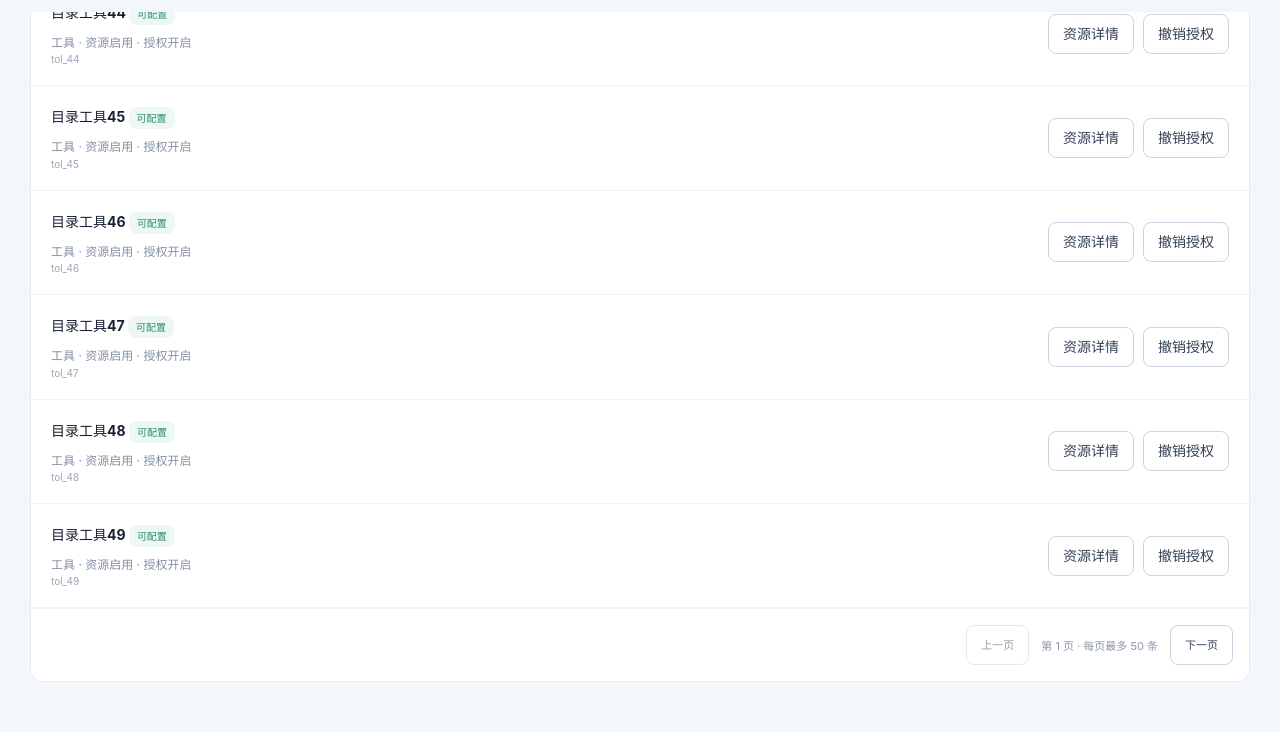
Test case: paginates on the server, resets filters and reloads eligibility after a grant change
(page scrolled)
Click the button "下一页" at [1202, 645], box [1170,625,1233,665]
(page scrolled)
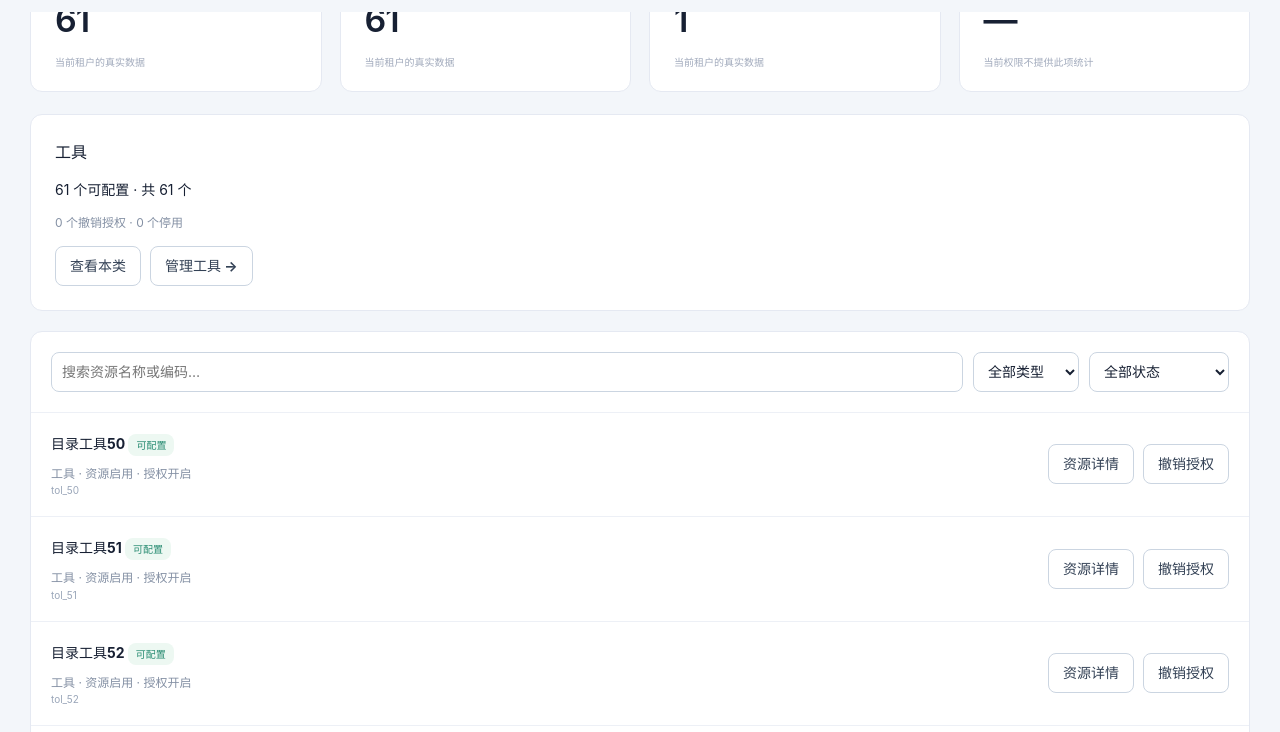
Select "工具" in the dropdown named "资源类型" at [1026, 372], box [973,352,1079,392]
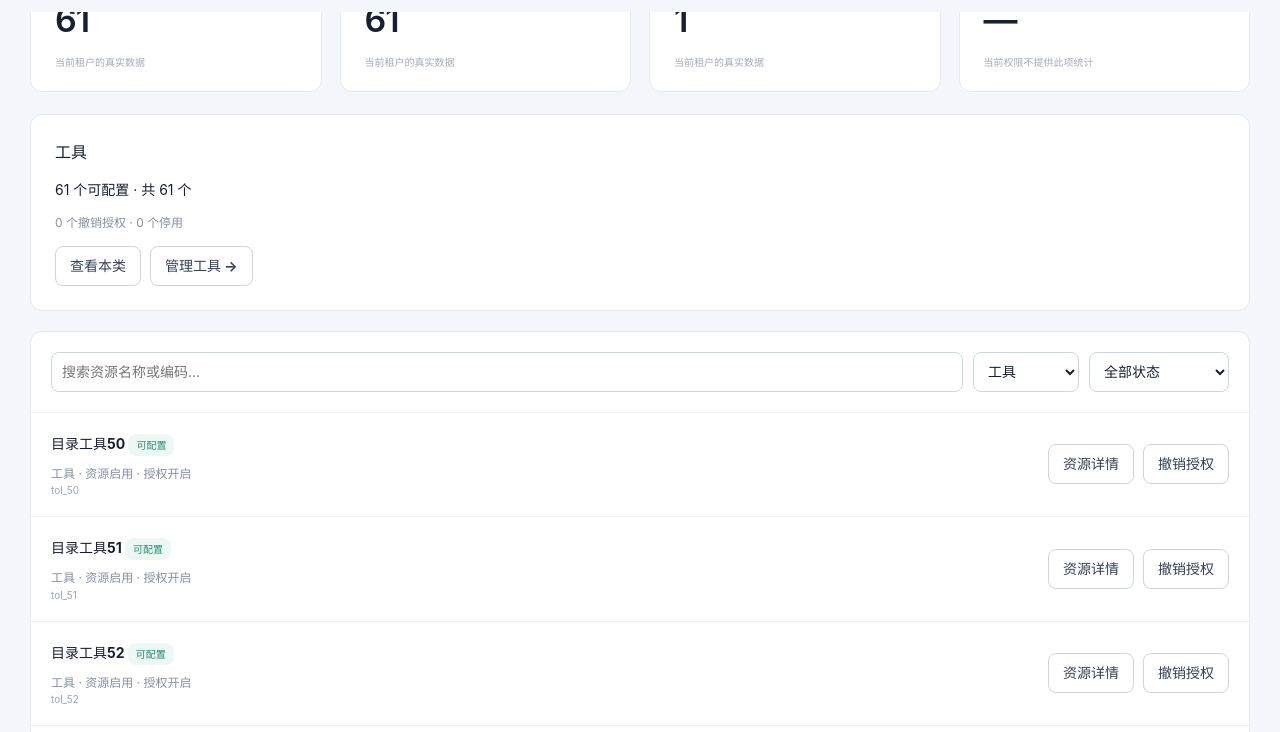
Select "可配置" in the dropdown named "可用状态" at [1159, 372], box [1089,352,1229,392]
Wait 260 ms
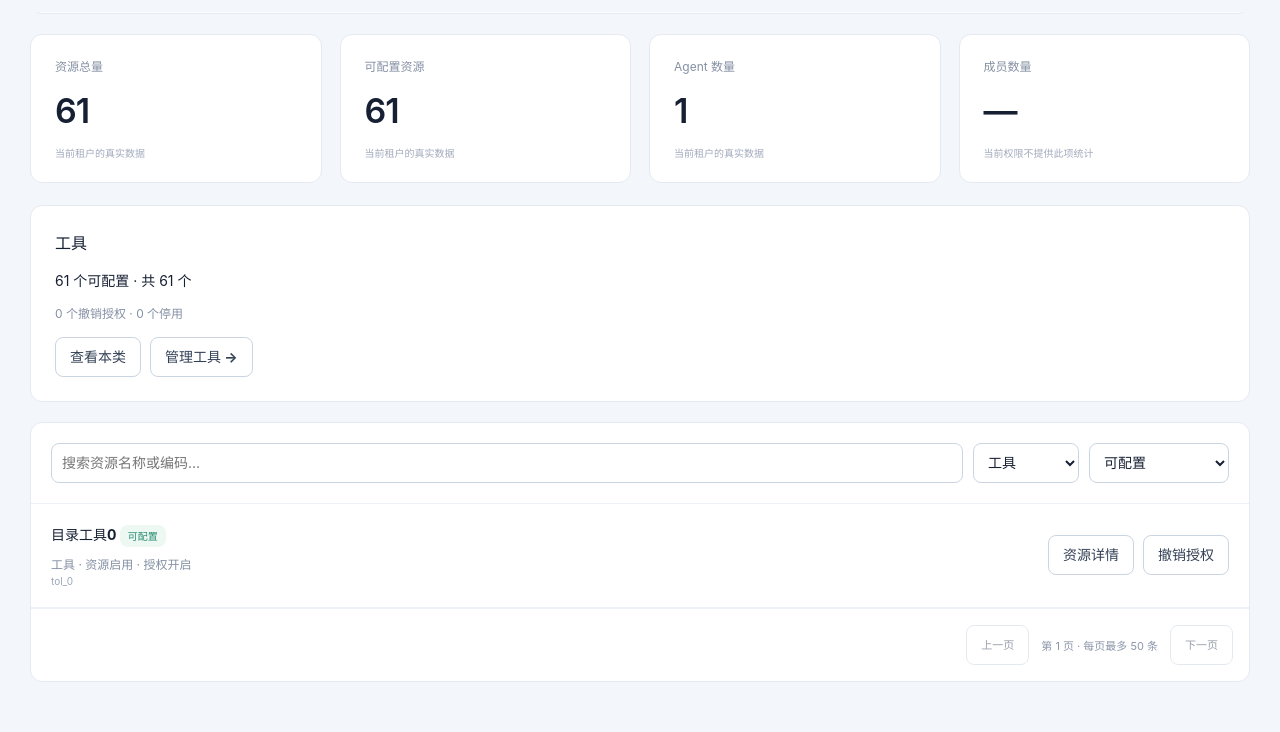
Click the button "撤销授权" at [1186, 556], box [1143,536,1229,576]
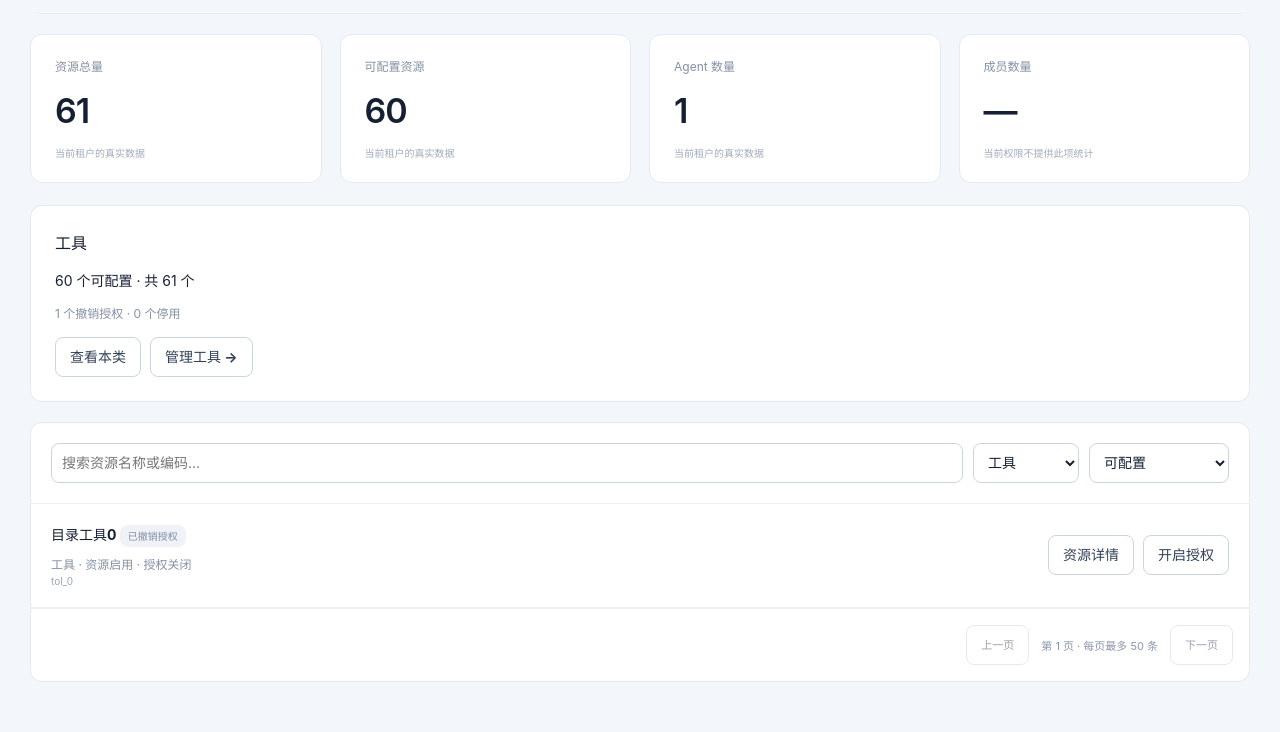
expect the text "授权关闭" is shown: met, box [51,557,191,572]
